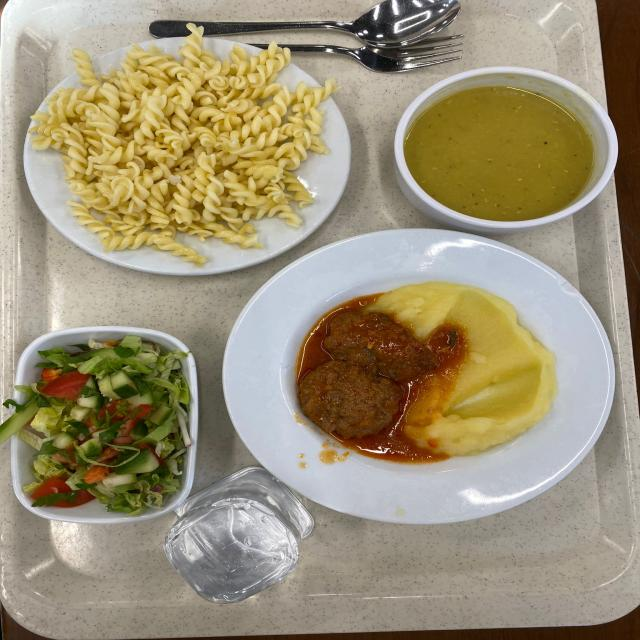ana_yemek: (303, 269, 532, 476), (83, 56, 303, 240)
corba: (419, 85, 593, 223)
yan_yemek: (25, 345, 176, 501)
